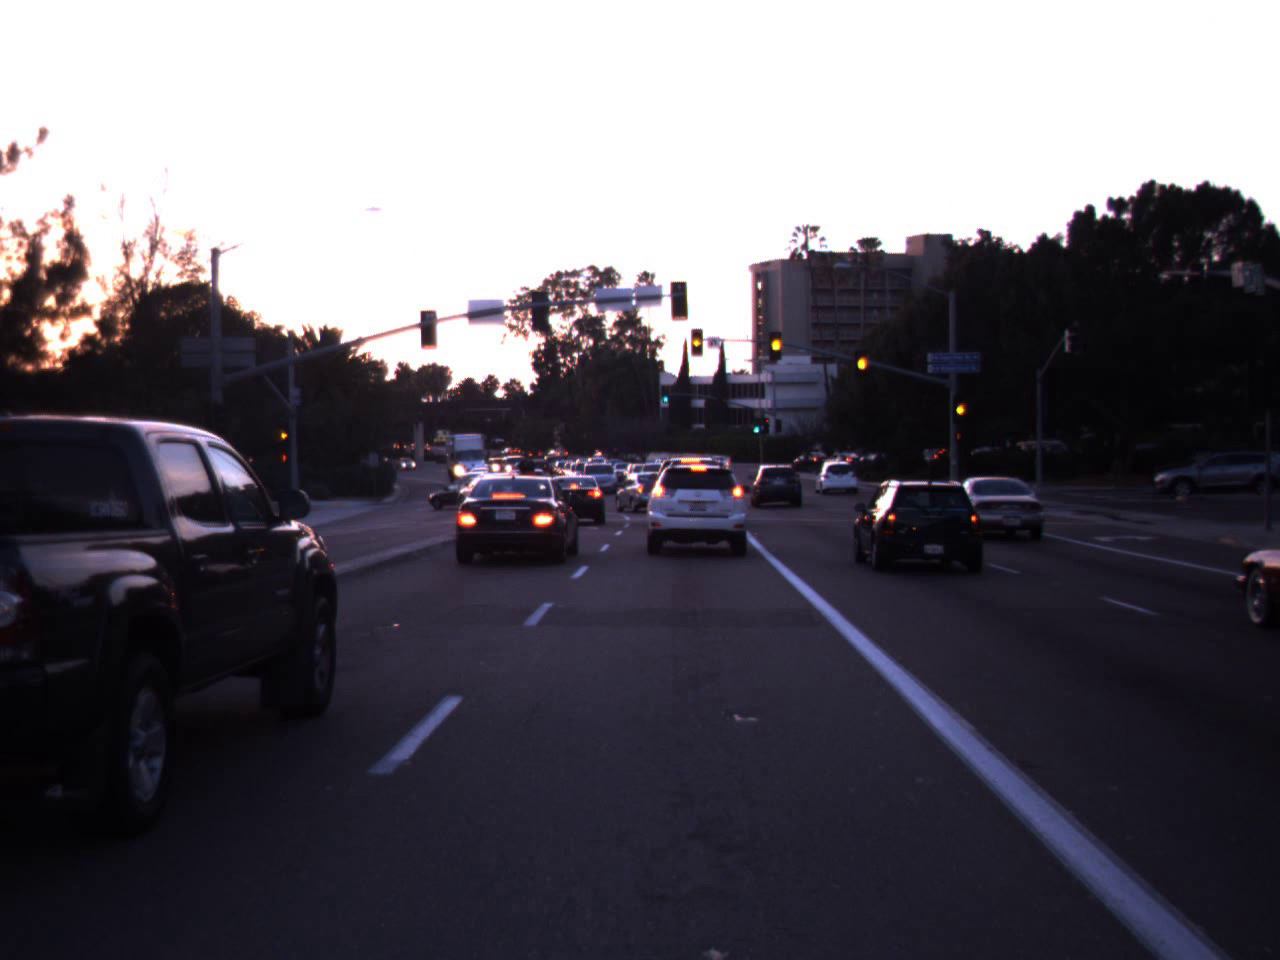go: (750, 409, 762, 434), (659, 384, 671, 404)
warning: (763, 320, 790, 365), (270, 410, 297, 455), (683, 325, 710, 356), (854, 339, 872, 384), (950, 390, 971, 426)
